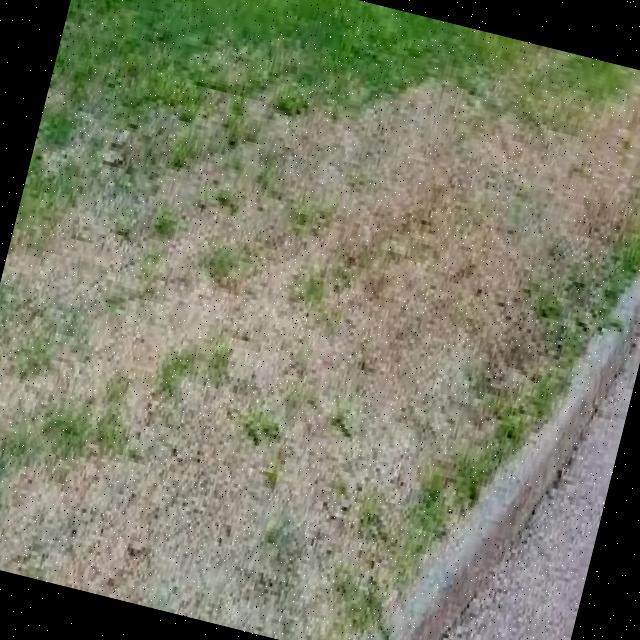curb: (346, 466, 530, 640), (473, 351, 621, 535), (579, 240, 640, 374)
